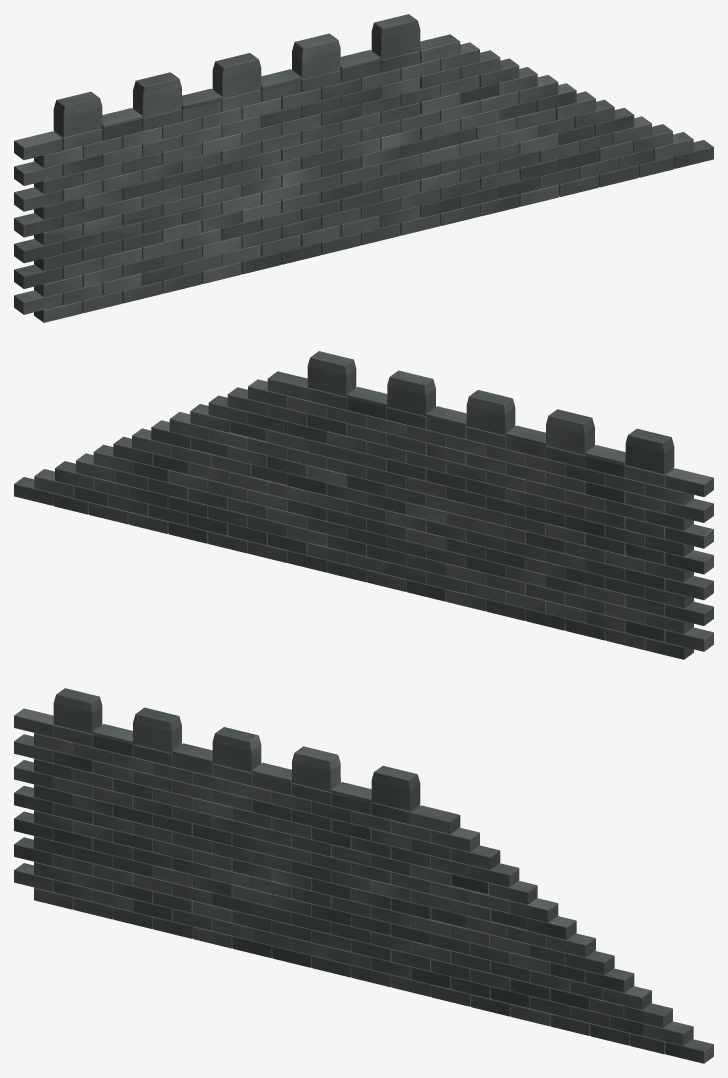
File: Medieval Final Wall_4.fbx
3 views of the same model, one above another, from view 1: azimuth 30°, elevation 25°; view 2: azimuth 150°, elevation 25°; view 3: azimuth 330°, elevation 25° (orthographic).
Visible parts, largest first — view 1: Medieval end wall-1; view 2: Medieval end wall-1; view 3: Medieval end wall-1.
Boxes of the visible parts, bbox=[...] form: Medieval end wall-1: bbox=[14, 14, 713, 322]; Medieval end wall-1: bbox=[14, 351, 713, 659]; Medieval end wall-1: bbox=[14, 688, 713, 1063].
Bounding box in the file's own units: 1622 × 474 × 44.55.
Materials: 1 (1 with a texture image).
